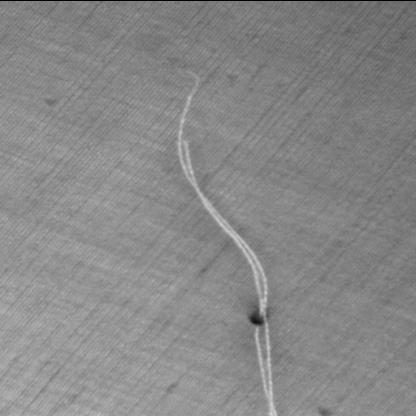objects: (167, 65, 282, 415)
